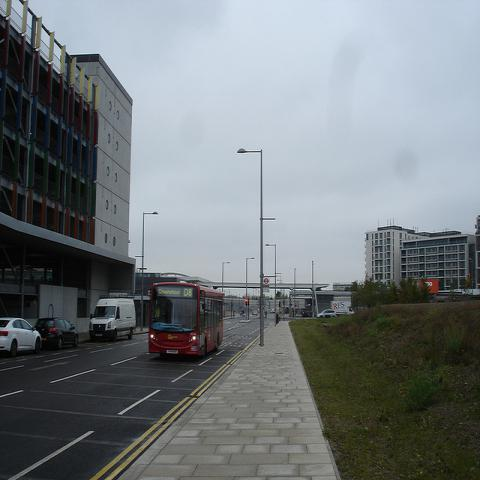bus: (148, 283, 223, 361)
car: (1, 316, 41, 356), (34, 317, 80, 349), (316, 309, 337, 318), (303, 309, 312, 317), (253, 310, 258, 316)
truck: (88, 296, 137, 343)
